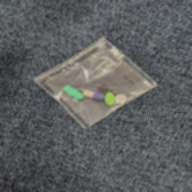러키펜정: (115, 95, 127, 104)
씨엠지세파클러캡슐: (82, 91, 105, 101)
에르도캡슐: (63, 85, 85, 101)
휴티렌정: (104, 92, 116, 106)
